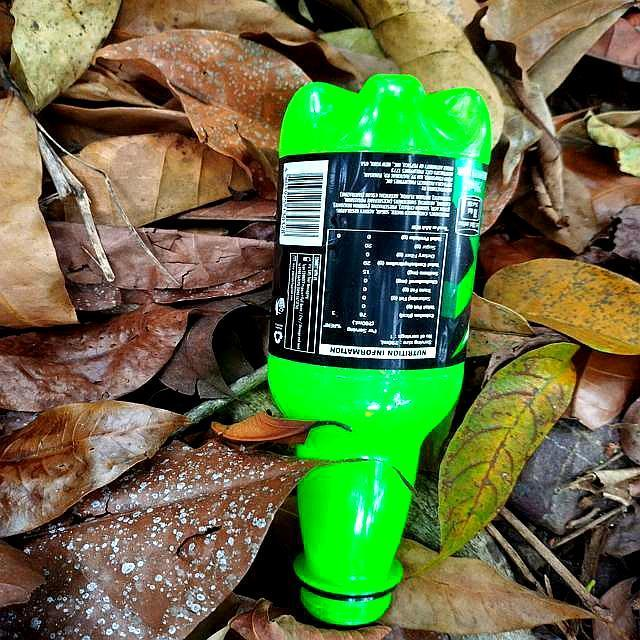Non-biodegradable: (269, 75, 497, 627)
